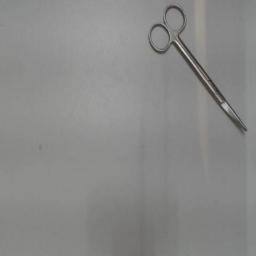Curved Mayo Scissors: (145, 2, 249, 136)
